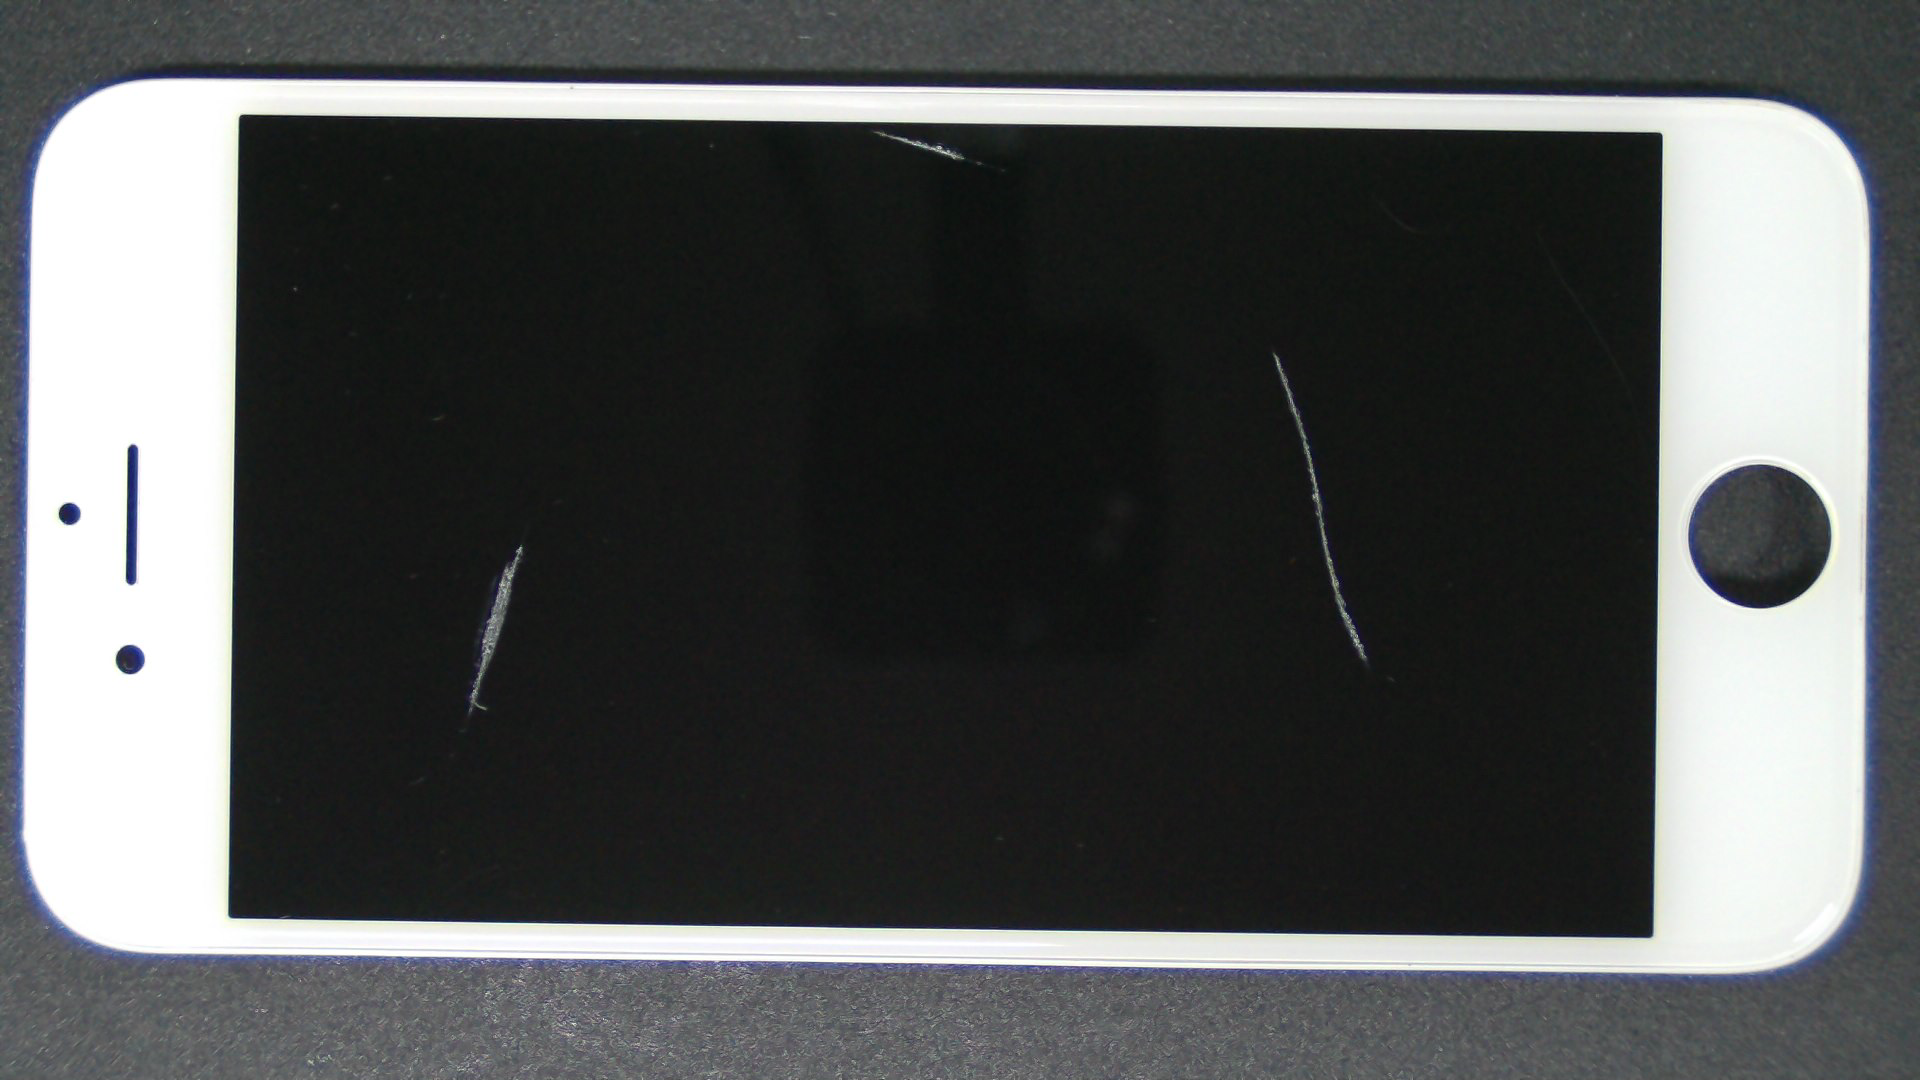defect: (1271, 351, 1367, 662), (467, 545, 524, 717), (870, 129, 967, 160)
